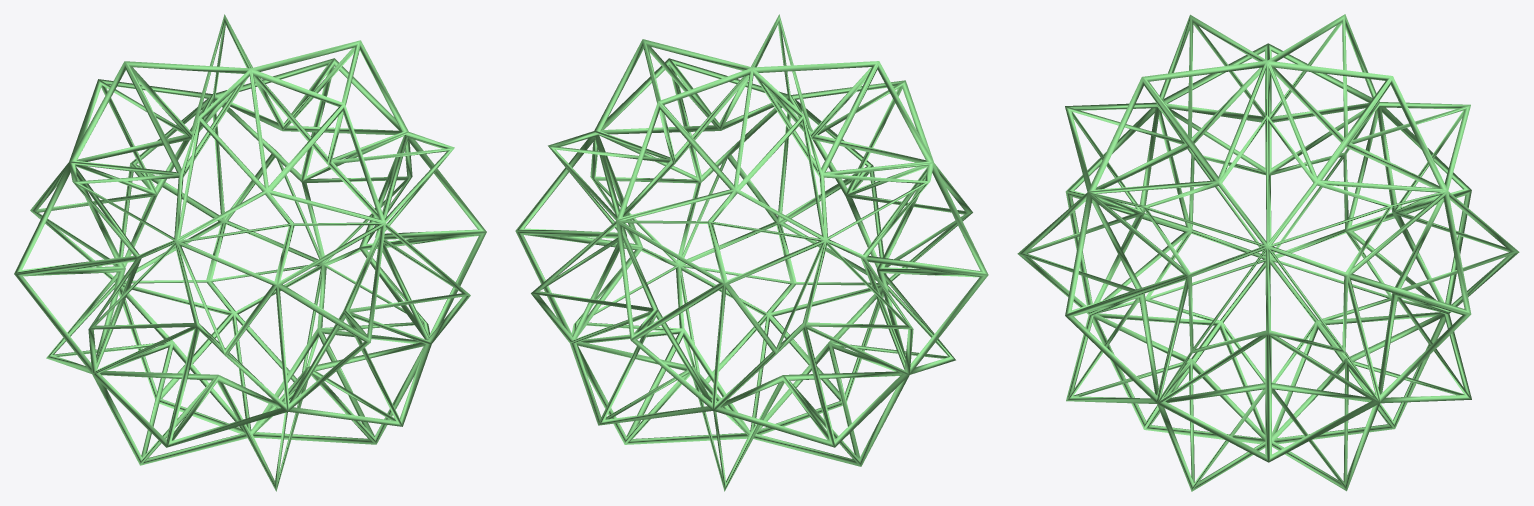
File: Mobius120a2.glb
3 views of the same model, side by side, from view 1: azimuth 30°, elevation 25°; view 2: azimuth 150°, elevation 25°; view 3: azimuth 270°, elevation 25° (orthographic). The views are drawn at different scales.
Parts seen in each view (by area): view 1: Mobius120a; view 2: Mobius120a; view 3: Mobius120a.
Boxes of the visible parts, <box> form: Mobius120a: <box>14,14,486,491</box>; Mobius120a: <box>515,14,988,491</box>; Mobius120a: <box>1017,14,1519,491</box>.
Size of the model in its own units: 3.67 by 3.29 by 3.85.
